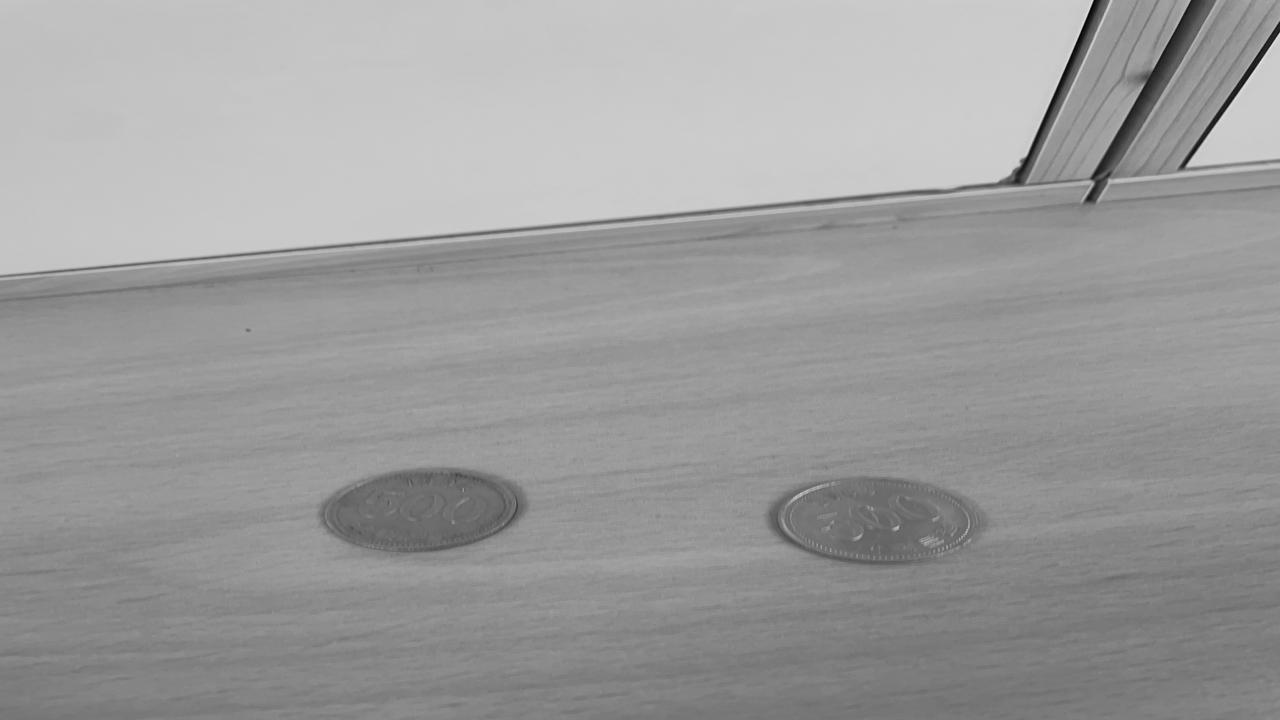coin: (770, 478, 982, 564), (320, 469, 522, 552)
